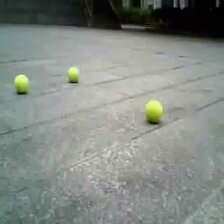tennis: (144, 101, 163, 121), (14, 75, 29, 95), (68, 66, 80, 83)
